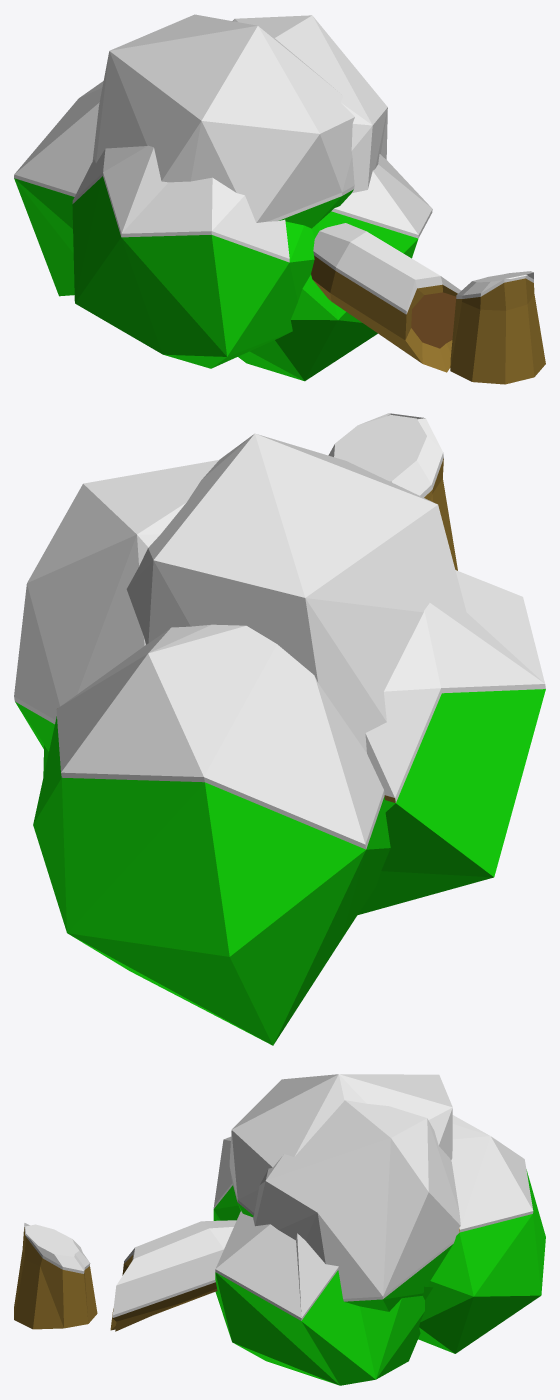
The model's file is Tree#16_Snow.fbx.
3 renders of one model, top to bottom at view 1: azimuth 30°, elevation 25°; view 2: azimuth 150°, elevation 25°; view 3: azimuth 270°, elevation 25°, orthographic. The views are drawn at different scales.
Visible parts, largest first — view 1: Tree#16_Snow; view 2: Tree#16_Snow; view 3: Tree#16_Snow.
Part boxes in pixels (x1,y1,x2,y2): Tree#16_Snow: (14,14,545,384); Tree#16_Snow: (14,413,545,1045); Tree#16_Snow: (14,1074,545,1385).
Bounding box in the file's own units: 347 × 337 × 564.
